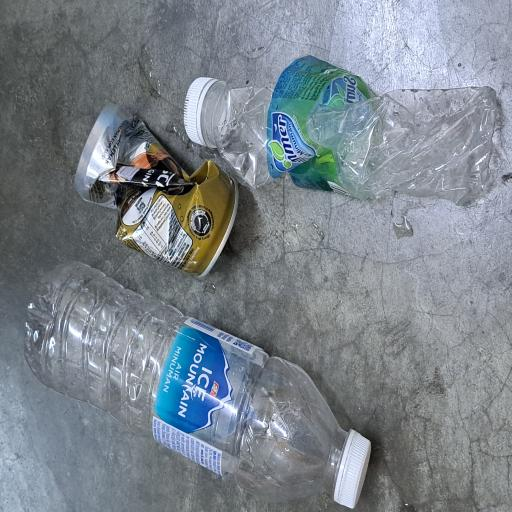can: (178, 92, 303, 329)
plastic bottle: (6, 28, 183, 468), (238, 290, 334, 512)
plastic bottle cap: (0, 438, 64, 502), (274, 242, 328, 304)
